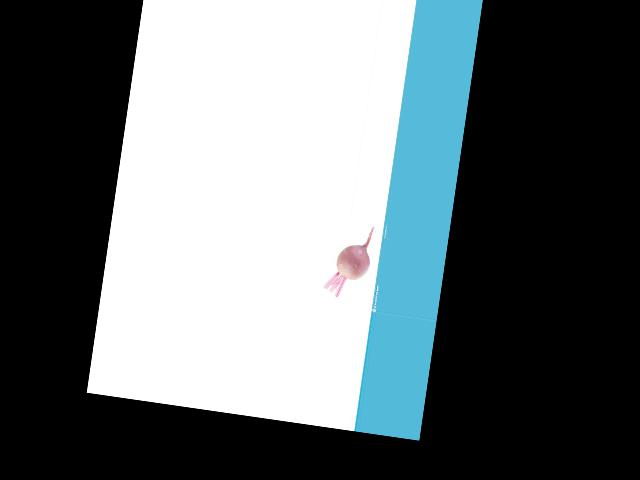beet: (323, 221, 374, 300)
